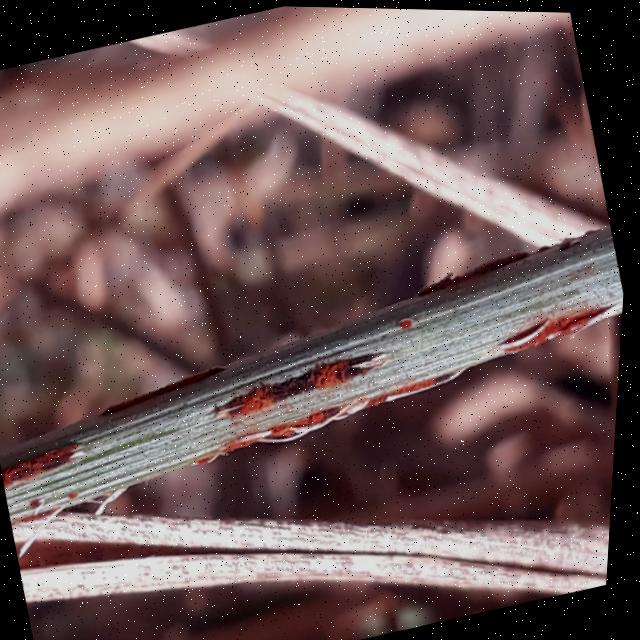black_stem_rust: (0, 164, 632, 640)
